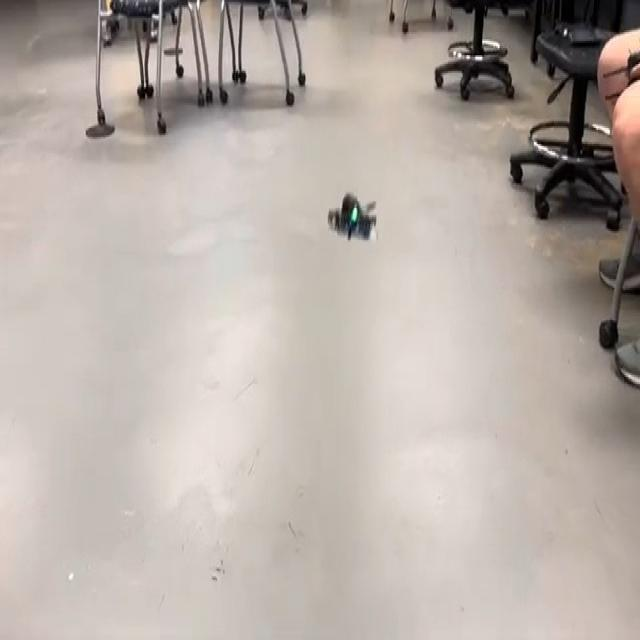drone: (316, 173, 390, 265)
